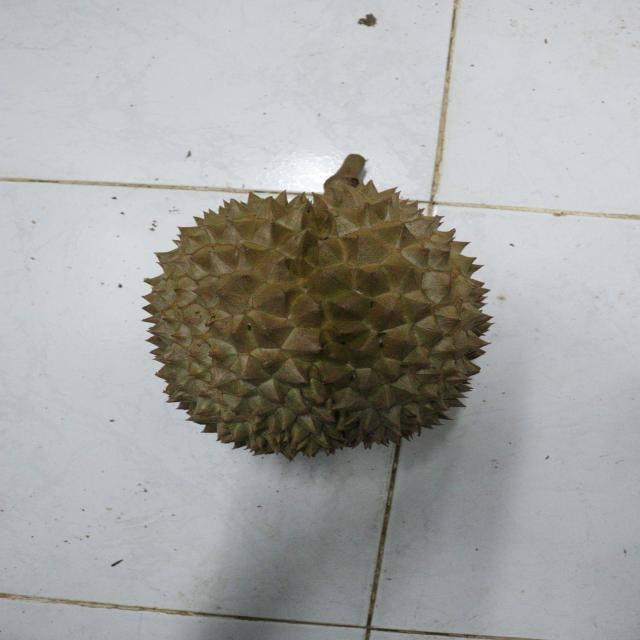mature: (138, 189, 495, 453)
